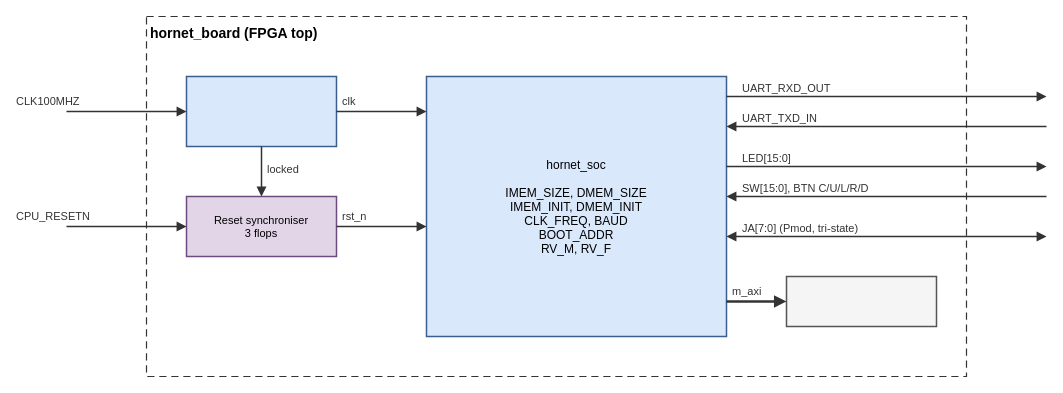
This 1063x393 diagram has some shape labels left out. The centre of each missing label's shape, as x and y in pixels:
"axil_error_slave (DECERR)" belongs at point (861, 301).
"MMCME2_BASE 100 MHz x 10 / CLK_DIV" belongs at point (261, 111).
